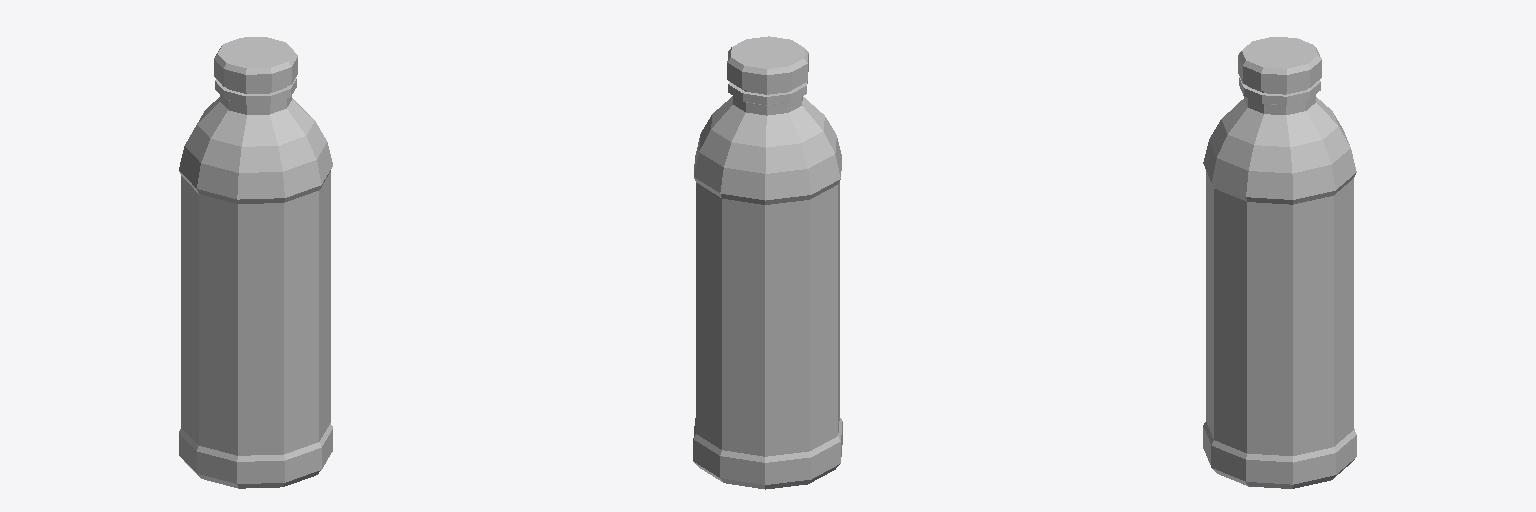
The model's file is arizona.obj.
The picture shows the model from 3 angles: view 1: azimuth 30°, elevation 25°; view 2: azimuth 150°, elevation 25°; view 3: azimuth 270°, elevation 25°; orthographic projection.
Visible parts, largest first — view 1: arizona_Cylinder.002; view 2: arizona_Cylinder.002; view 3: arizona_Cylinder.002.
Boxes of the visible parts, x1=… form: arizona_Cylinder.002: x1=179, y1=37, x2=332, y2=488; arizona_Cylinder.002: x1=693, y1=36, x2=842, y2=489; arizona_Cylinder.002: x1=1203, y1=37, x2=1356, y2=488.
Bounding box in the file's own units: 0.9178 × 2.69 × 0.9229.